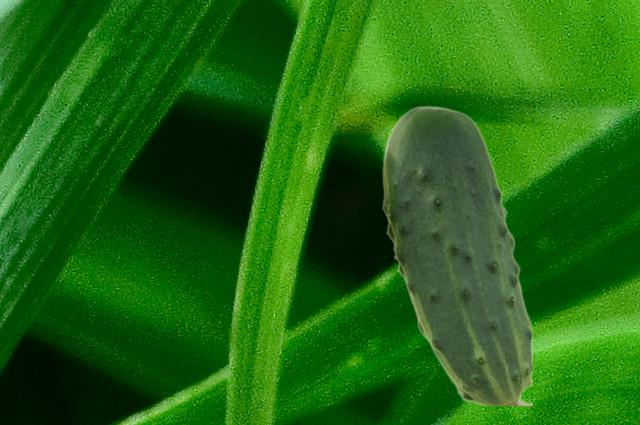cucumber: (382, 105, 531, 404)
